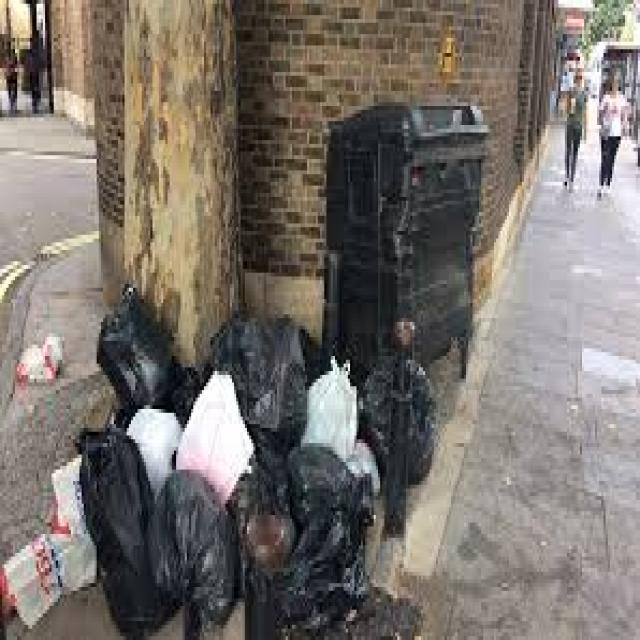plastic_bag: (272, 456, 360, 619), (154, 482, 242, 626), (76, 433, 147, 607), (91, 304, 199, 406), (364, 346, 433, 482), (224, 300, 308, 406)
